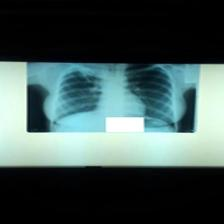tuberculosis: (49, 64, 180, 132)
